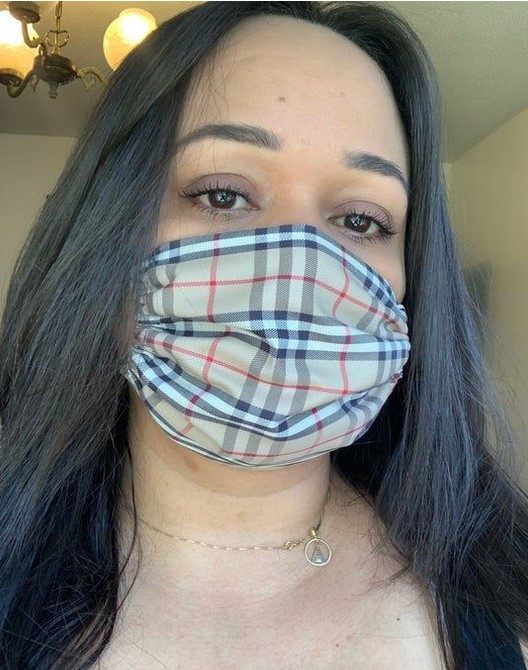face_with_mask: (95, 8, 430, 470)
